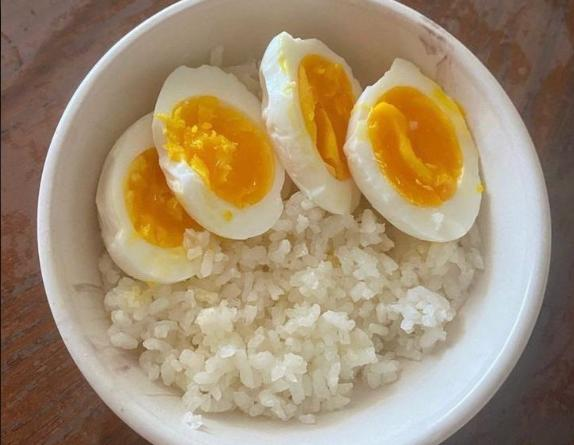makanan_berpati: (210, 254, 397, 383)
telur: (173, 82, 260, 210), (377, 85, 452, 213), (283, 56, 340, 180), (113, 150, 161, 262)
